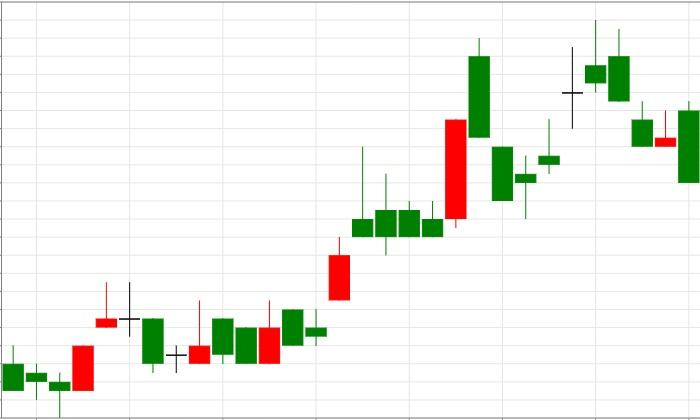shooting_star_fall: (259, 146, 374, 364)
